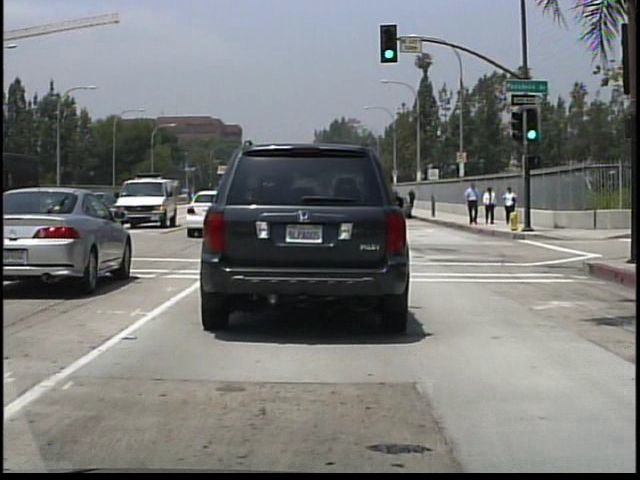person: (463, 180, 480, 227), (481, 185, 498, 225), (503, 184, 519, 213), (408, 188, 418, 204)
